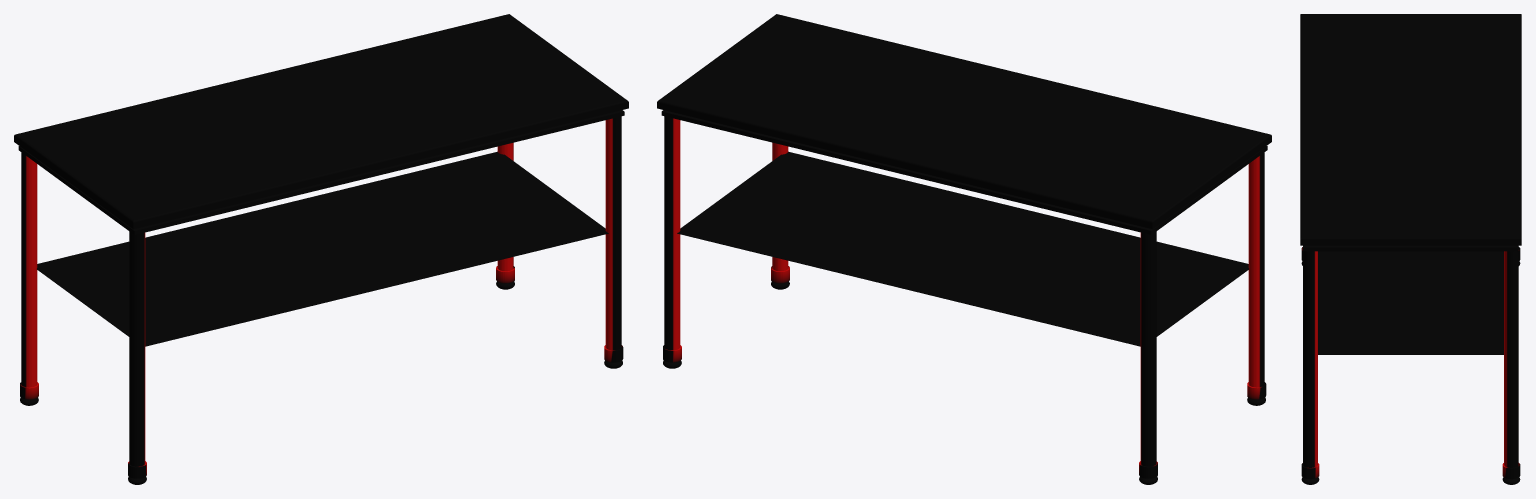
The picture shows the model from 3 angles, left to right: view 1: azimuth 30°, elevation 25°; view 2: azimuth 150°, elevation 25°; view 3: azimuth 270°, elevation 25°; orthographic projection. The views are drawn at different scales.
Parts seen in each view (by area): view 1: BT1875_Body; view 2: BT1875_Body; view 3: BT1875_Body.
Boxes of the visible parts, x1,y1,x2,y2 form: BT1875_Body: (14, 14, 628, 484); BT1875_Body: (657, 14, 1271, 484); BT1875_Body: (1300, 14, 1521, 484).
Size of the model in its own units: 1.8 by 0.9319 by 0.7499.
